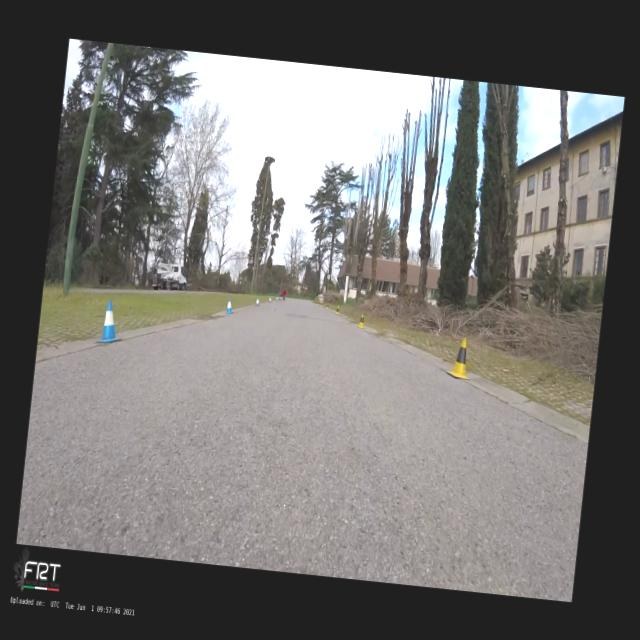blue_cone: (96, 299, 124, 344), (224, 297, 234, 314), (254, 298, 260, 306), (269, 296, 271, 302)
yellow_cone: (445, 336, 474, 380), (356, 312, 365, 328), (335, 304, 339, 314), (326, 302, 328, 308)
